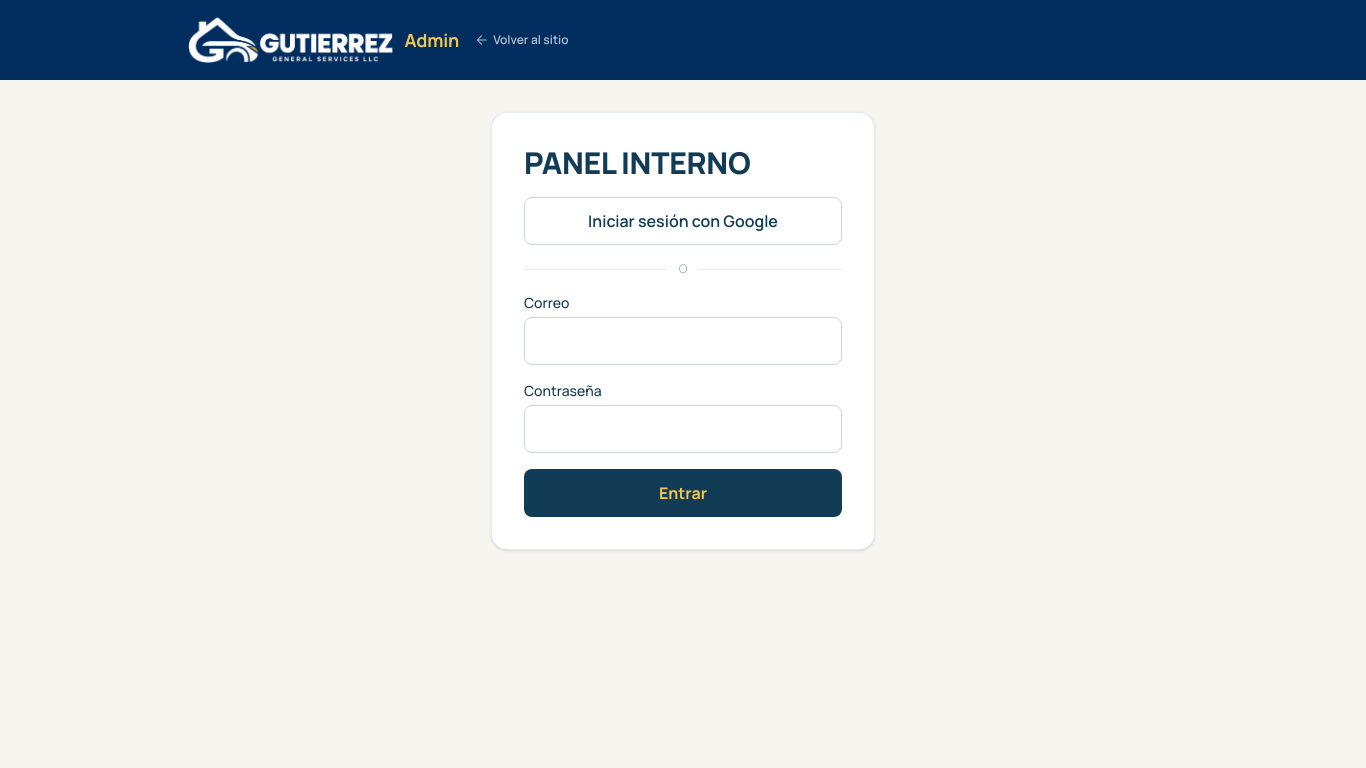
Test: Admin — logged out › shows an error message on a failed login attempt without leaking why
expect the heading "Panel interno" is shown: met, box [524,142,750,183]
Type "staff@example.com" into the field labelled "Correo".
click(683, 341); type("staff@example.com")  # box [524,317,842,365]
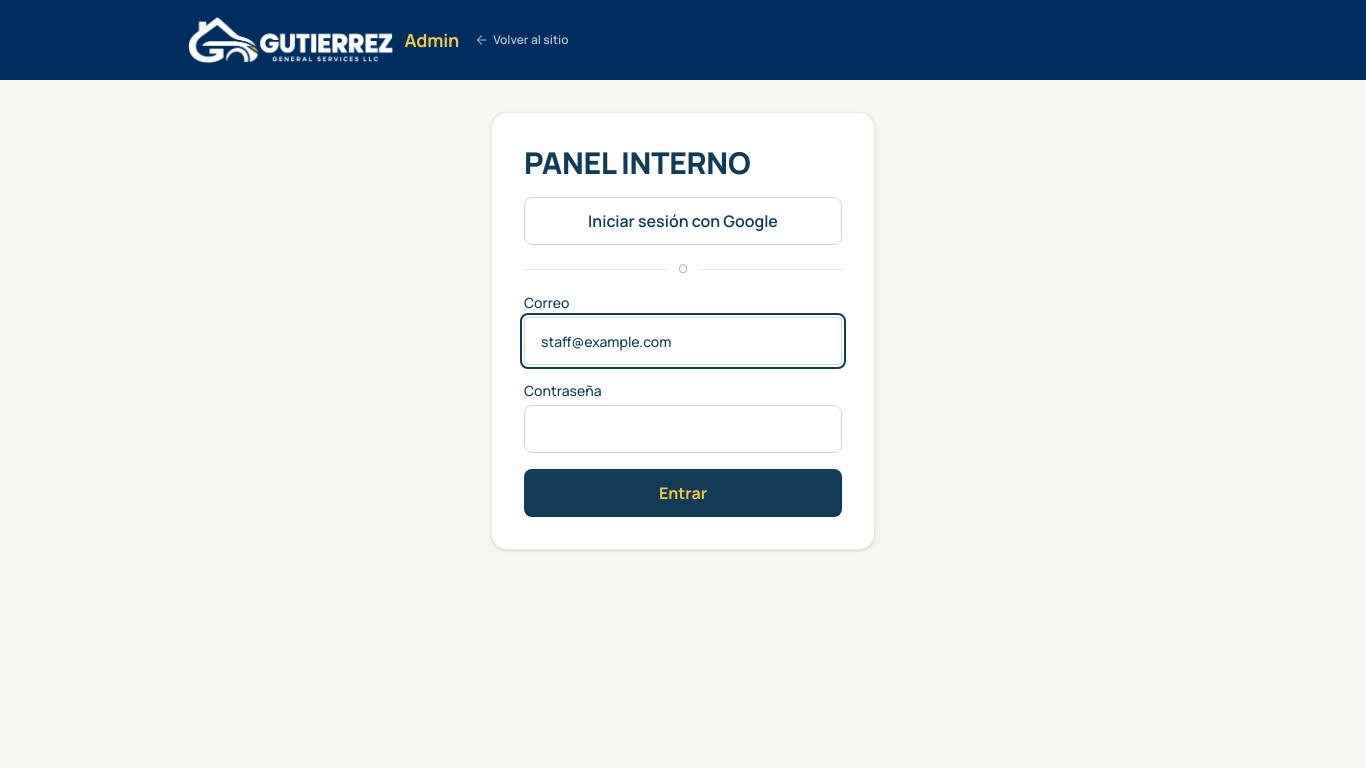
Type "wrong-password" into the password field labelled "Contraseña".
click(683, 429); type("wrong-password")  # box [524,405,842,453]
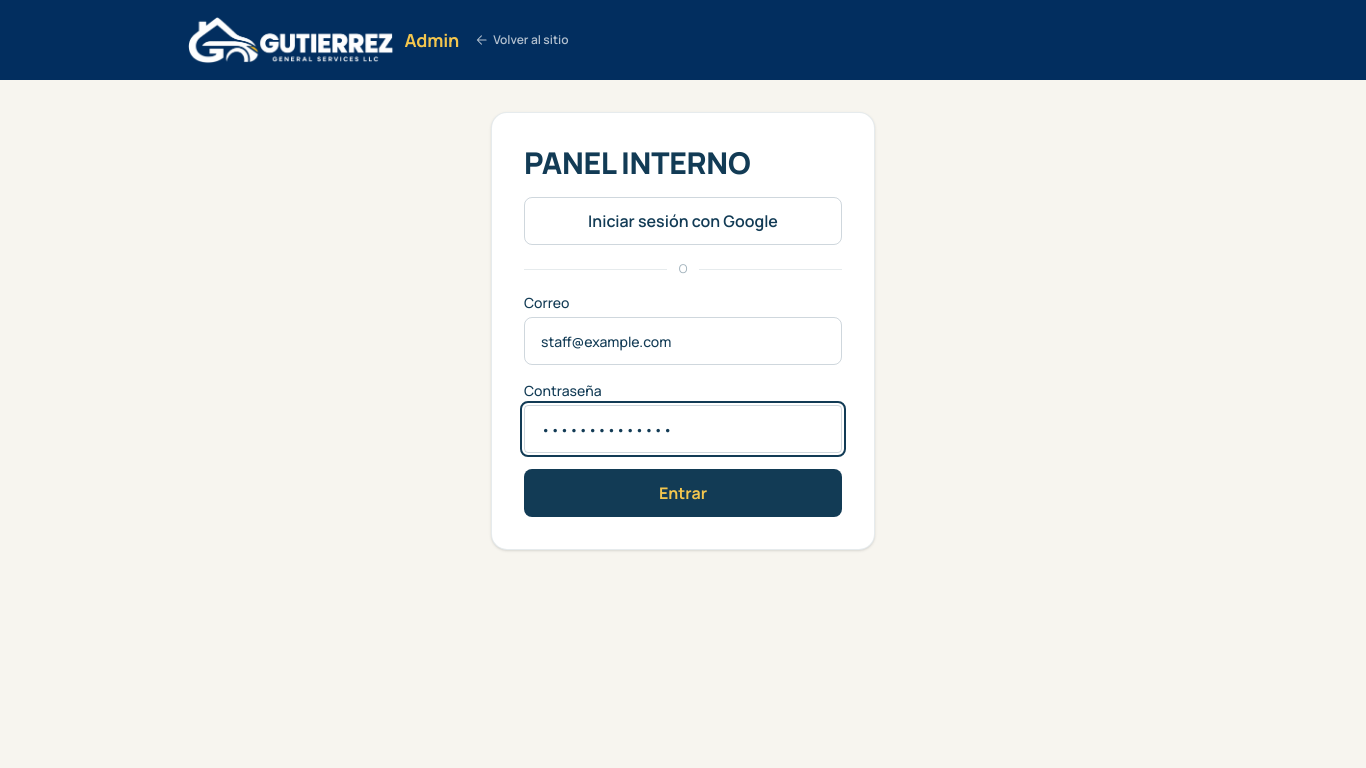
Click the button "Entrar".
click(683, 493)  # box [524,469,842,517]
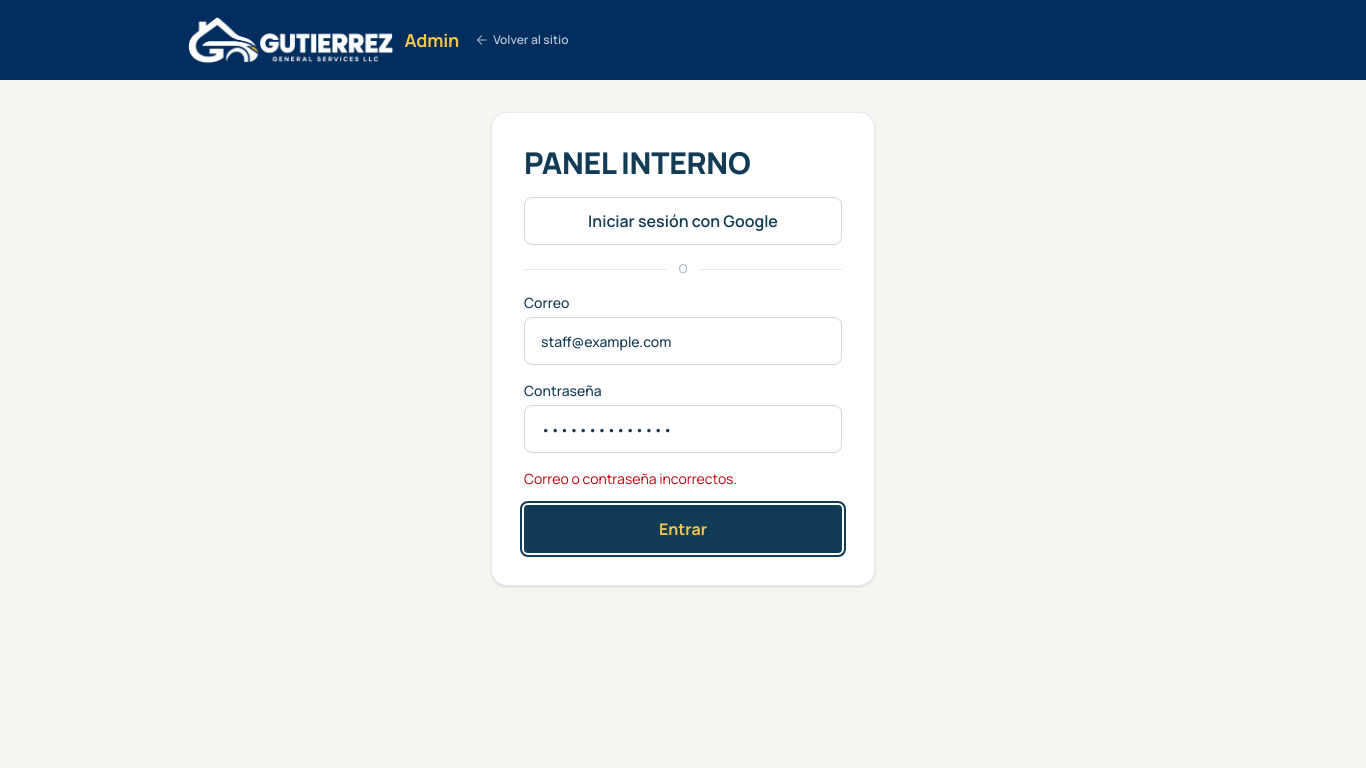
expect the text "Correo o contraseña incorrectos." is shown: met, box [524,469,737,488]
